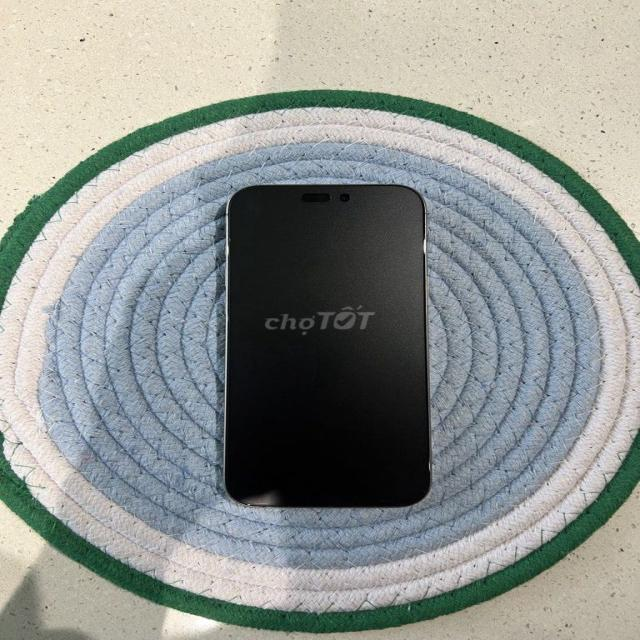gen_15: (206, 173, 446, 531)
